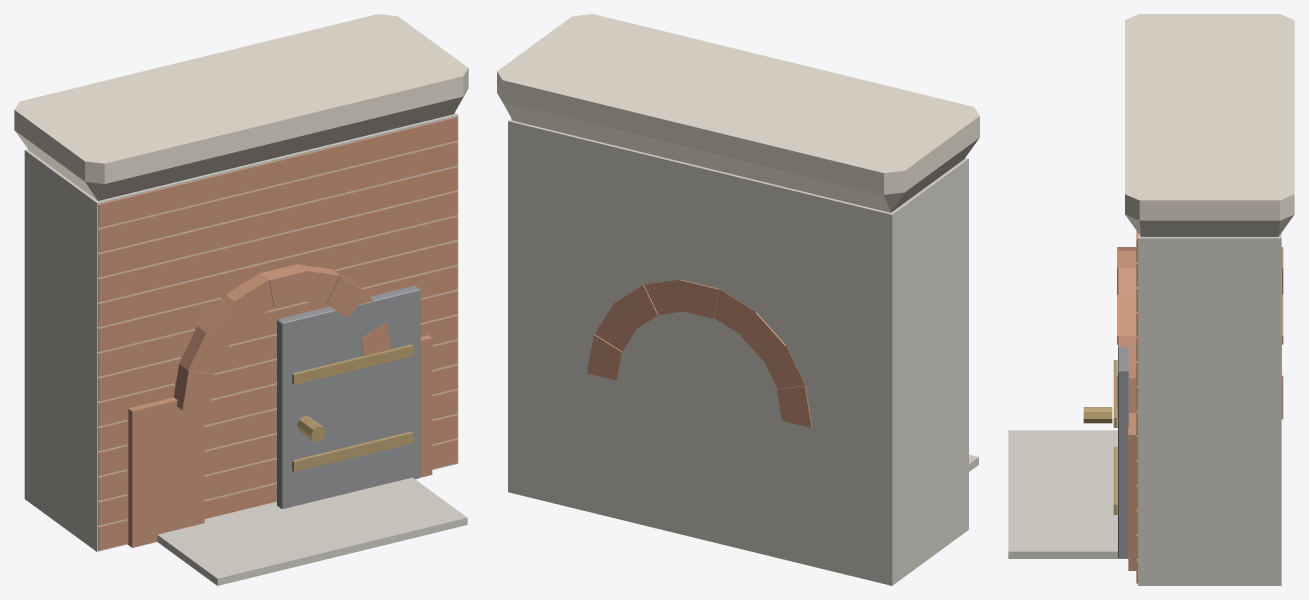
The model's file is roman-bathhouse-and-palaestra-praefurnium-furnace-mout-691340e2__37877.glb.
3 views of the same model, side by side, from view 1: azimuth 30°, elevation 25°; view 2: azimuth 150°, elevation 25°; view 3: azimuth 270°, elevation 25° (orthographic). The views are drawn at different scales.
Visible parts, largest first — view 1: praefurnium-furnace-mouth, stoke-door/lead, stoke-door/bronze; view 2: praefurnium-furnace-mouth; view 3: praefurnium-furnace-mouth, stoke-door/lead, stoke-door/bronze.
Part boxes in pixels (bbox=[...]): praefurnium-furnace-mouth: bbox=[14, 14, 468, 585]; stoke-door/lead: bbox=[277, 286, 420, 508]; stoke-door/bronze: bbox=[292, 344, 413, 471]; praefurnium-furnace-mouth: bbox=[497, 14, 979, 585]; praefurnium-furnace-mouth: bbox=[1008, 14, 1294, 585]; stoke-door/lead: bbox=[1118, 340, 1128, 558]; stoke-door/bronze: bbox=[1083, 360, 1117, 514].
Size of the model in its own units: 2.76 by 2.7 by 1.79.
